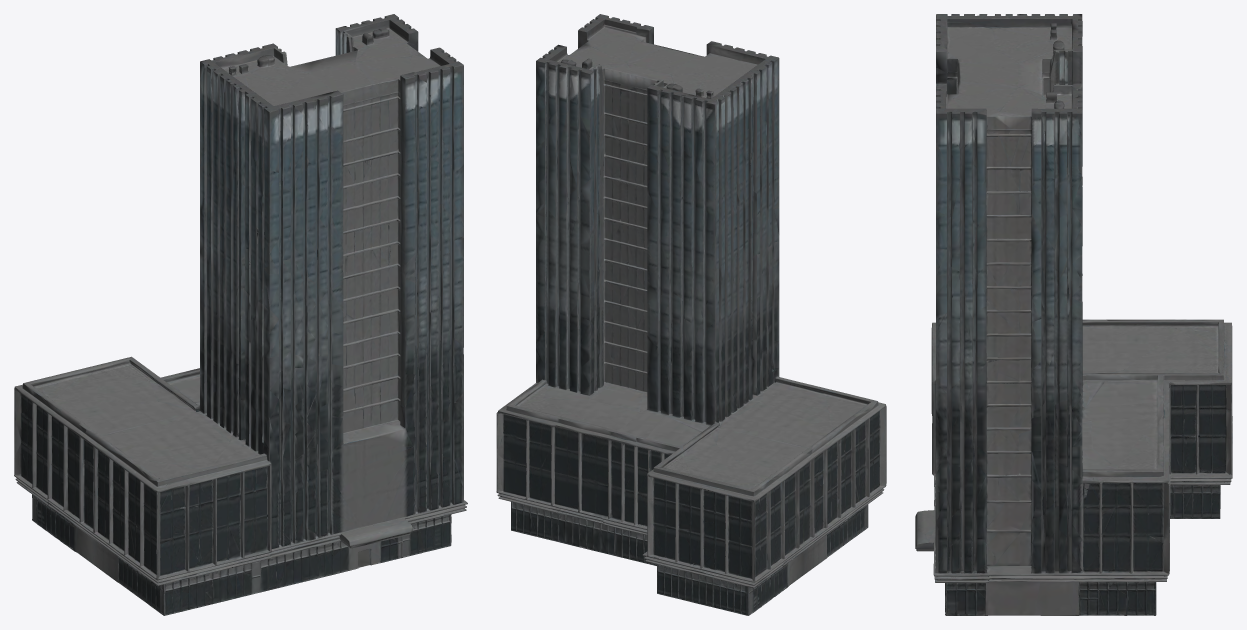
Rendered from dusk-glass-tower.glb.
3 renders of one model, left to right at view 1: azimuth 30°, elevation 25°; view 2: azimuth 150°, elevation 25°; view 3: azimuth 270°, elevation 25°, orthographic. The views are drawn at different scales.
Size of the model in its own units: 1.29 by 1.9 by 1.08.
Materials: 1 (1 with a texture image).
